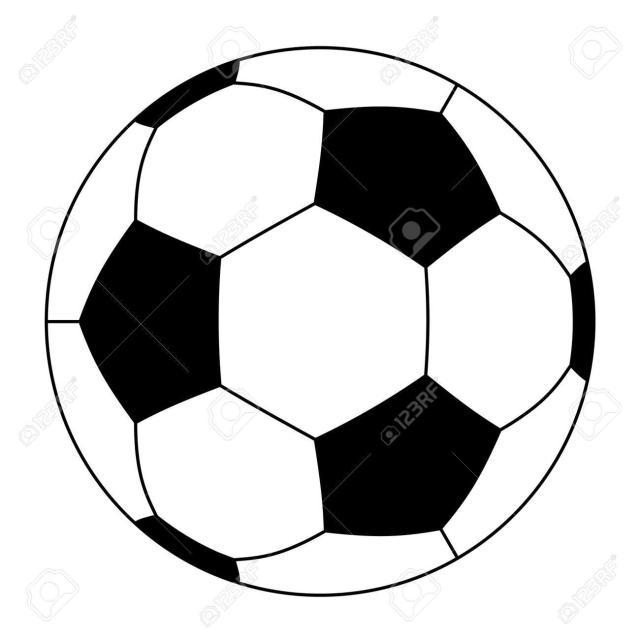Soccer Ball: (46, 47, 594, 595)
